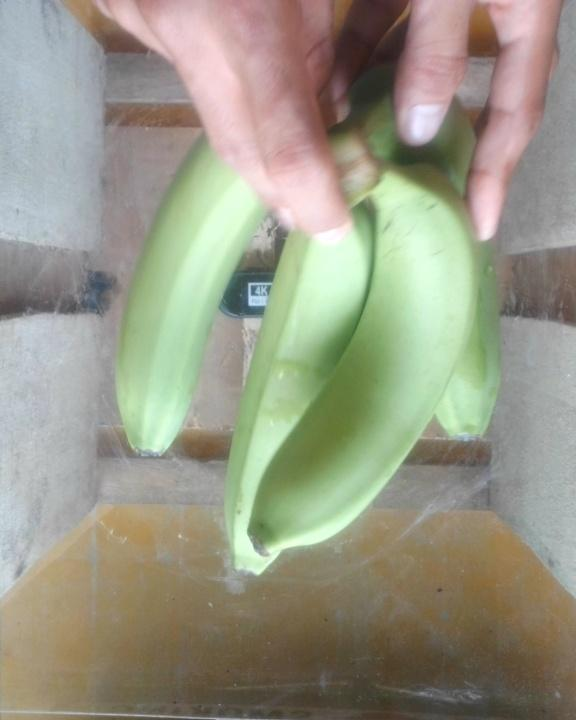SPOT: (91, 115, 519, 604)
